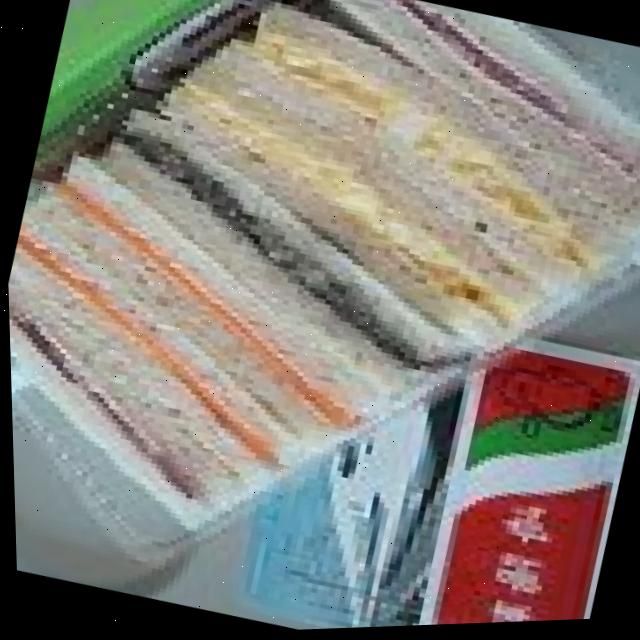三明治: (0, 0, 548, 548)
